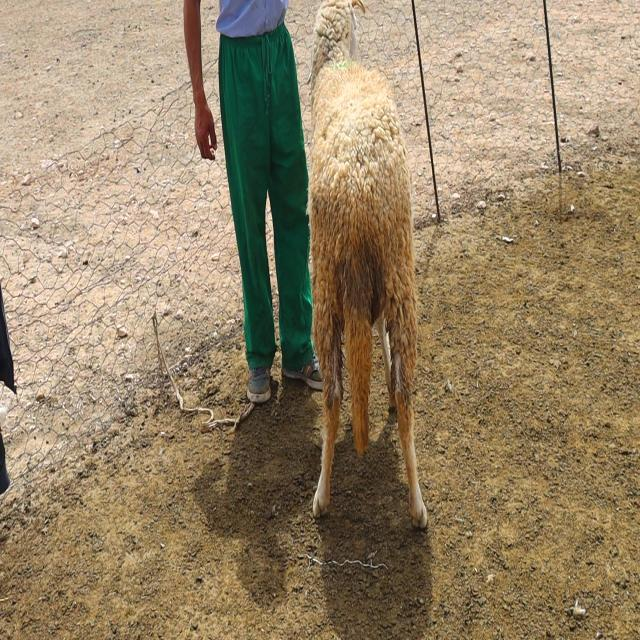Score_2: (309, 0, 427, 529)
